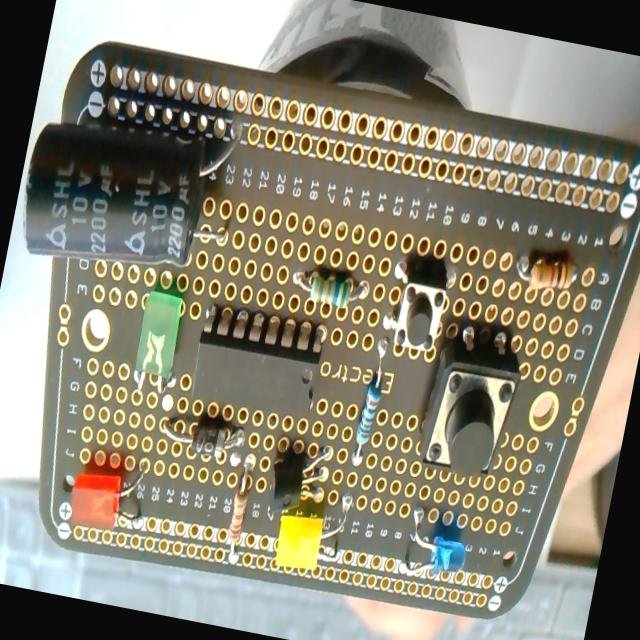Electrolytic capacitor: (12, 113, 218, 286)
IC: (184, 306, 328, 442)
diode: (159, 410, 250, 465)
led: (62, 450, 156, 539), (399, 507, 474, 588), (132, 285, 188, 385), (272, 496, 328, 574)
resistor: (348, 338, 394, 470), (220, 455, 258, 565), (288, 264, 370, 314), (512, 248, 580, 297)
switch: (414, 323, 529, 485), (378, 257, 456, 358)
transistor: (266, 438, 336, 520)
